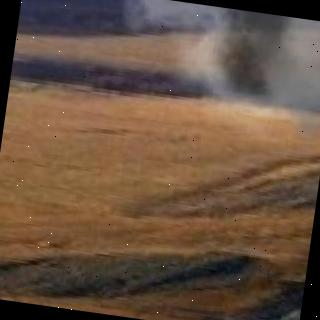smoke: (139, 0, 320, 142)
